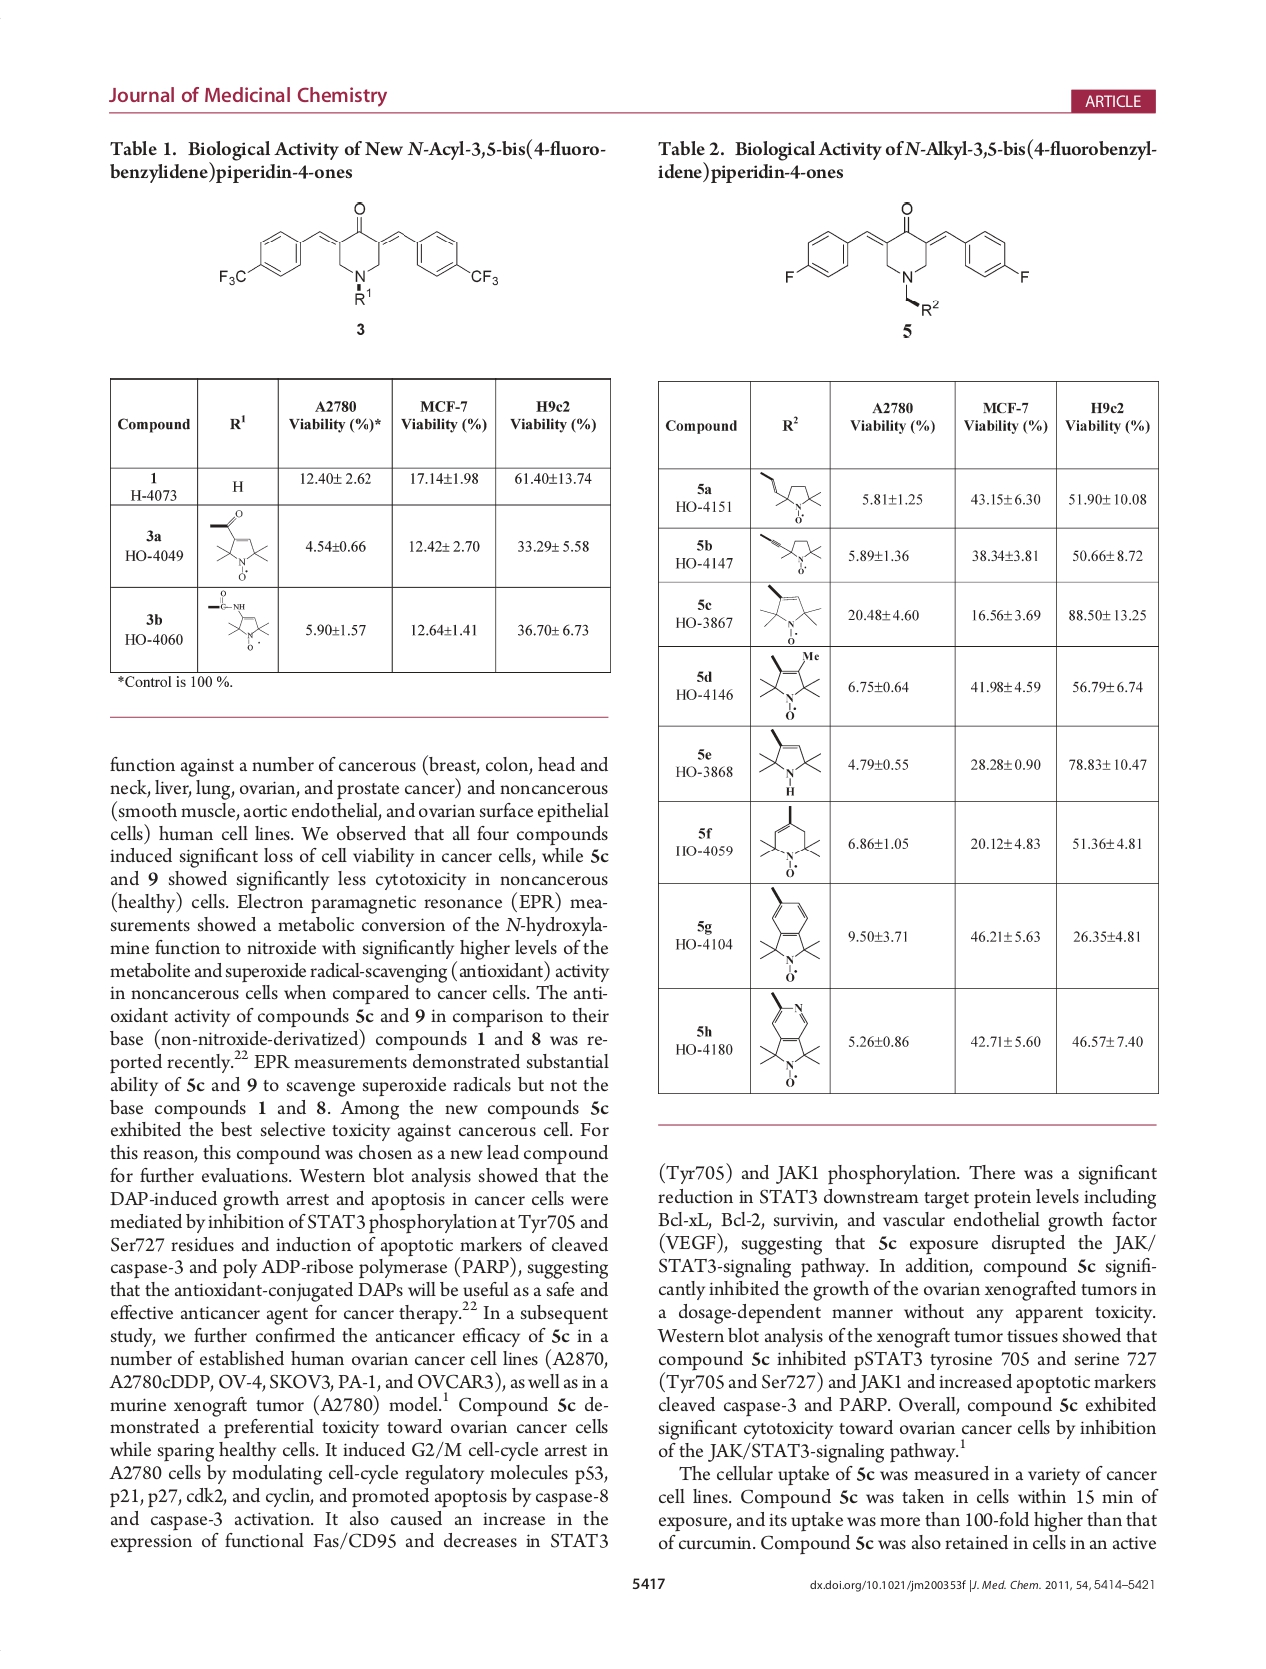exist_molecular: (215, 199, 500, 307), (782, 199, 1033, 318), (758, 991, 822, 1091), (758, 886, 822, 983), (757, 805, 821, 879), (755, 727, 823, 797), (207, 509, 270, 582), (759, 652, 822, 722), (207, 589, 270, 652), (759, 584, 822, 644), (757, 471, 822, 525), (758, 531, 822, 577)
